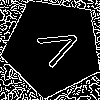V: (27, 22, 84, 73)
